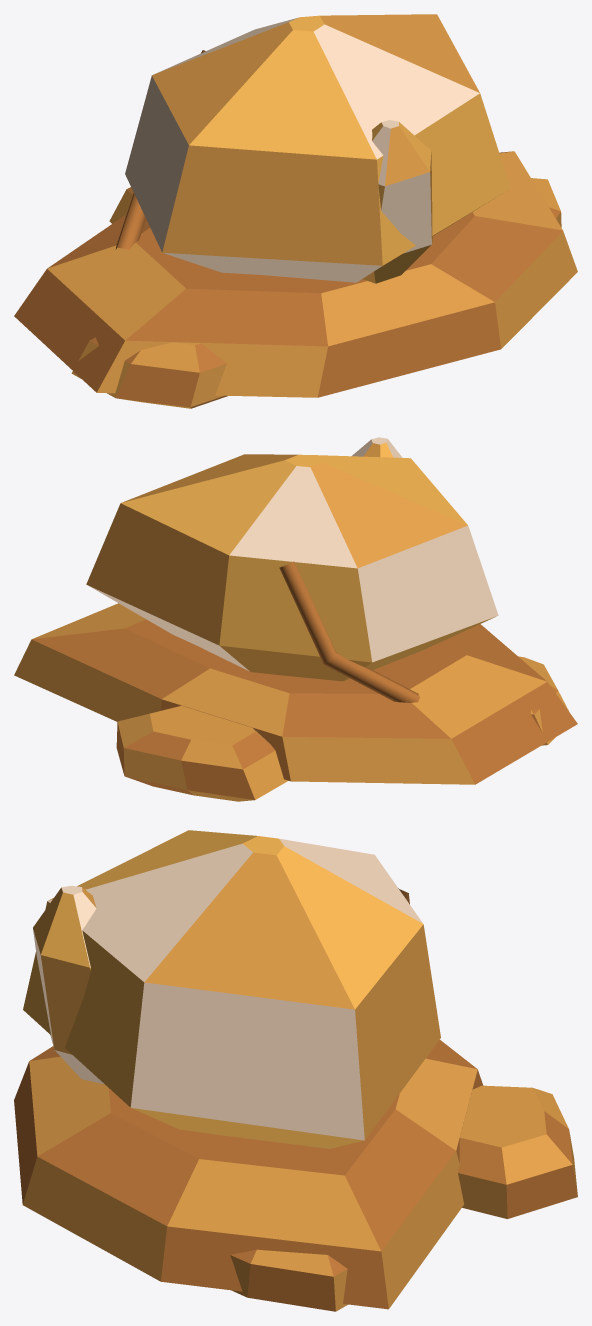
File: BH_ORE_O02_Quartzo_de_Abobora_V01.glb
3 views of the same model, one above another, from view 1: azimuth 30°, elevation 25°; view 2: azimuth 150°, elevation 25°; view 3: azimuth 270°, elevation 25° (orthographic). The views are drawn at different scales.
Visible parts, largest first — view 1: Pumpkin quartz | broad six faces.001, Bedrock | primary.001, Triangular heart.001, Bedrock | shoulder 1.001, Fossil vine.001, Bedrock | shoulder 2.001; view 2: Pumpkin quartz | broad six faces.001, Bedrock | primary.001, Bedrock | shoulder 3.001, Fossil vine.001, Triangular heart.001, Bedrock | shoulder 1.001; view 3: Pumpkin quartz | broad six faces.001, Bedrock | primary.001, Bedrock | shoulder 3.001, Triangular heart.001, Bedrock | shoulder 2.001.
Part boxes in pixels (bbox=[...]): Pumpkin quartz | broad six faces.001: bbox=[125, 14, 510, 282]; Bedrock | primary.001: bbox=[14, 151, 577, 397]; Triangular heart.001: bbox=[363, 120, 432, 283]; Bedrock | shoulder 1.001: bbox=[71, 337, 227, 408]; Fossil vine.001: bbox=[115, 50, 205, 249]; Bedrock | shoulder 2.001: bbox=[531, 178, 561, 227]; Pumpkin quartz | broad six faces.001: bbox=[86, 454, 498, 681]; Bedrock | primary.001: bbox=[14, 603, 577, 784]; Bedrock | shoulder 3.001: bbox=[116, 705, 288, 801]; Fossil vine.001: bbox=[279, 561, 419, 702]; Triangular heart.001: bbox=[351, 437, 402, 457]; Bedrock | shoulder 1.001: bbox=[518, 656, 568, 745]; Pumpkin quartz | broad six faces.001: bbox=[23, 830, 440, 1148]; Bedrock | primary.001: bbox=[14, 1040, 483, 1309]; Bedrock | shoulder 3.001: bbox=[458, 1085, 577, 1218]; Triangular heart.001: bbox=[33, 885, 104, 1084]; Bedrock | shoulder 2.001: bbox=[230, 1249, 347, 1311].
Size of the model in its own units: 2.59 by 1.35 by 2.06.
